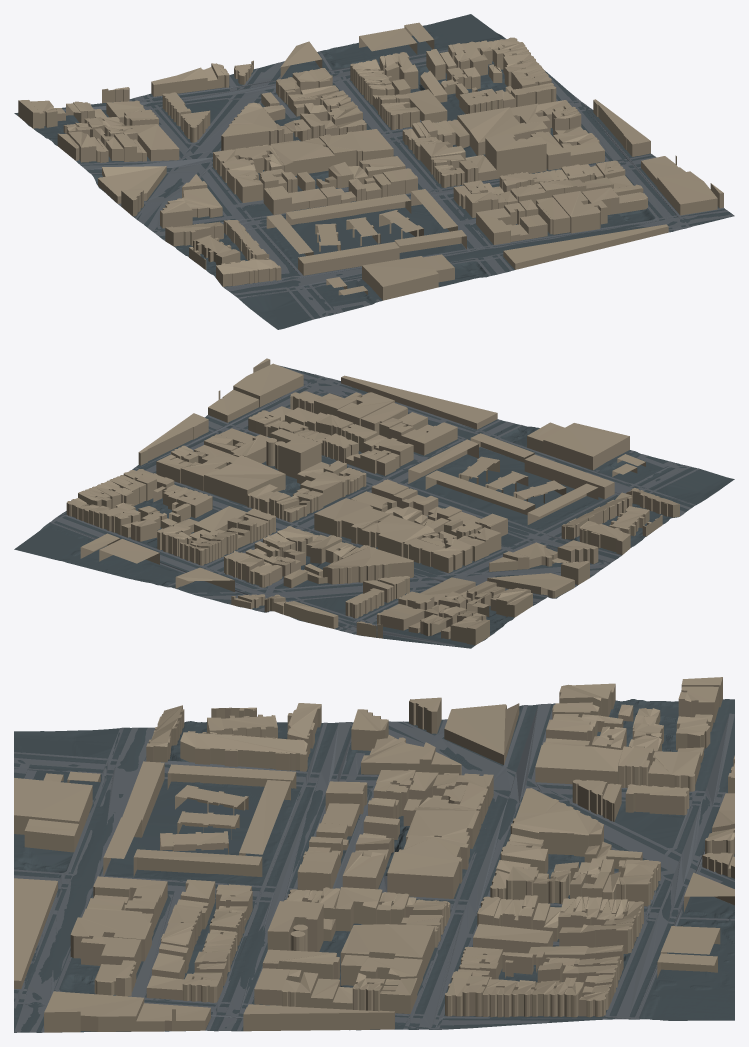
Rendered from epsg26910-1436-10896.lod0.glb.
3 views of the same model, one above another, from view 1: azimuth 30°, elevation 25°; view 2: azimuth 150°, elevation 25°; view 3: azimuth 270°, elevation 25° (orthographic). The views are drawn at different scales.
Visible parts, largest first — view 1: epsg26910-1436-10896-lod0; view 2: epsg26910-1436-10896-lod0; view 3: epsg26910-1436-10896-lod0.
Part boxes in pixels (x1,y1,x2,y2): epsg26910-1436-10896-lod0: [14, 14, 734, 329]; epsg26910-1436-10896-lod0: [14, 358, 734, 648]; epsg26910-1436-10896-lod0: [14, 677, 734, 1032].
Size of the model in its own units: 384 by 32.62 by 384.
